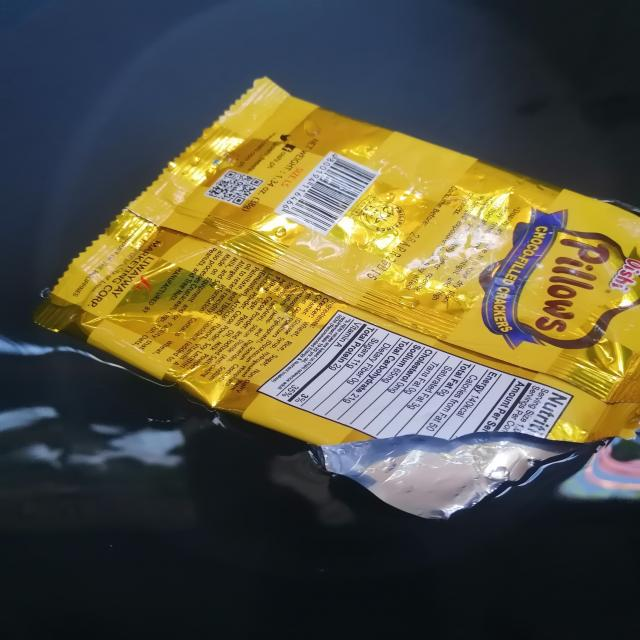Plastic Wrapper: (36, 79, 640, 520)
